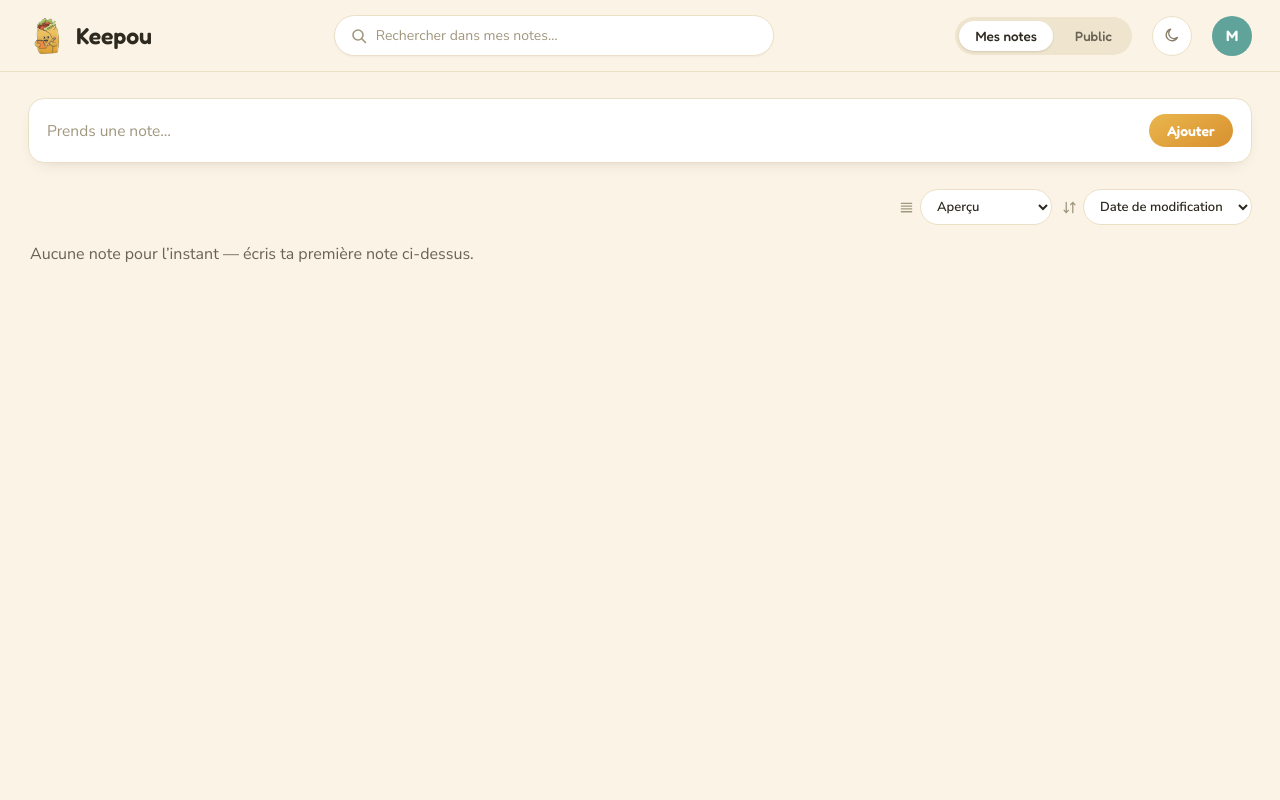
Test: AdminPage / AccessManager › navigates from the board to /admin via the avatar menu
Click the button named "Menu du compte" at (1232, 36), box [1212,16,1252,56]
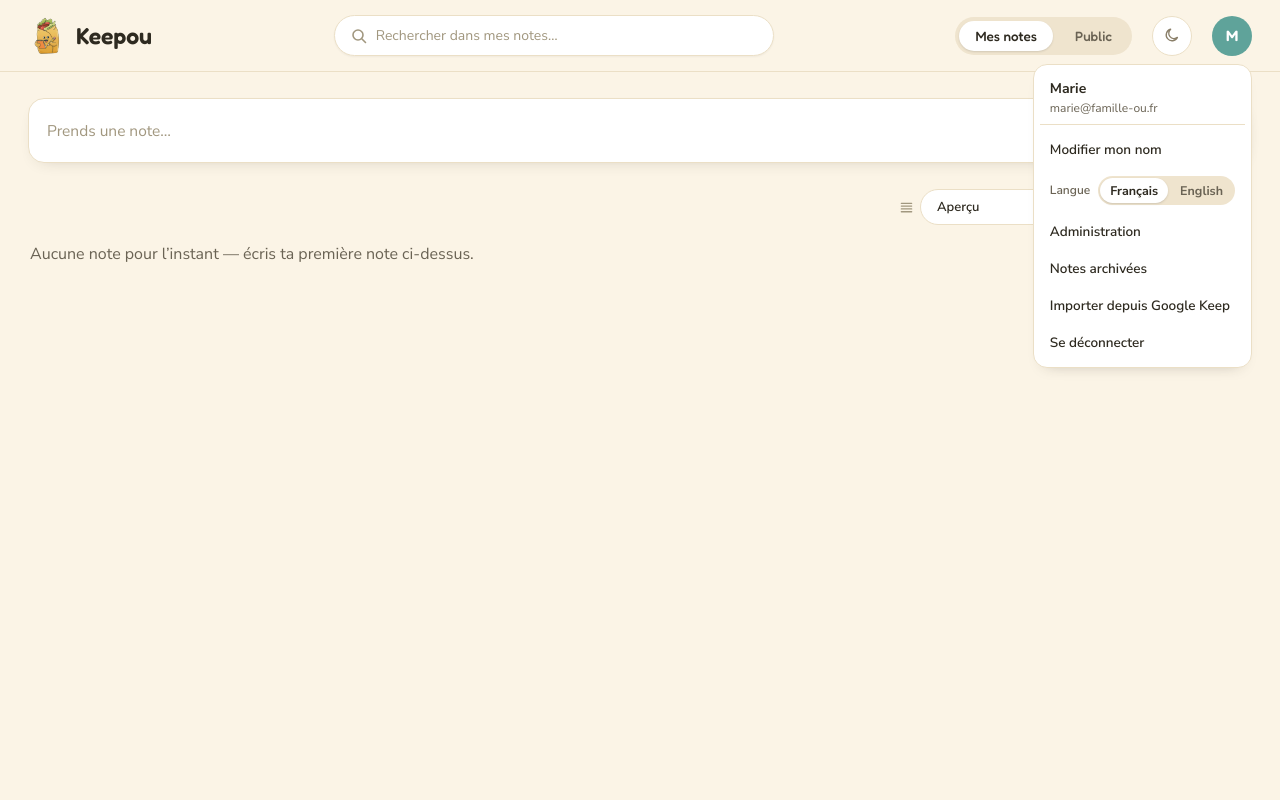
Click the menu item "Administration" at (1142, 231), box [1040,212,1245,250]
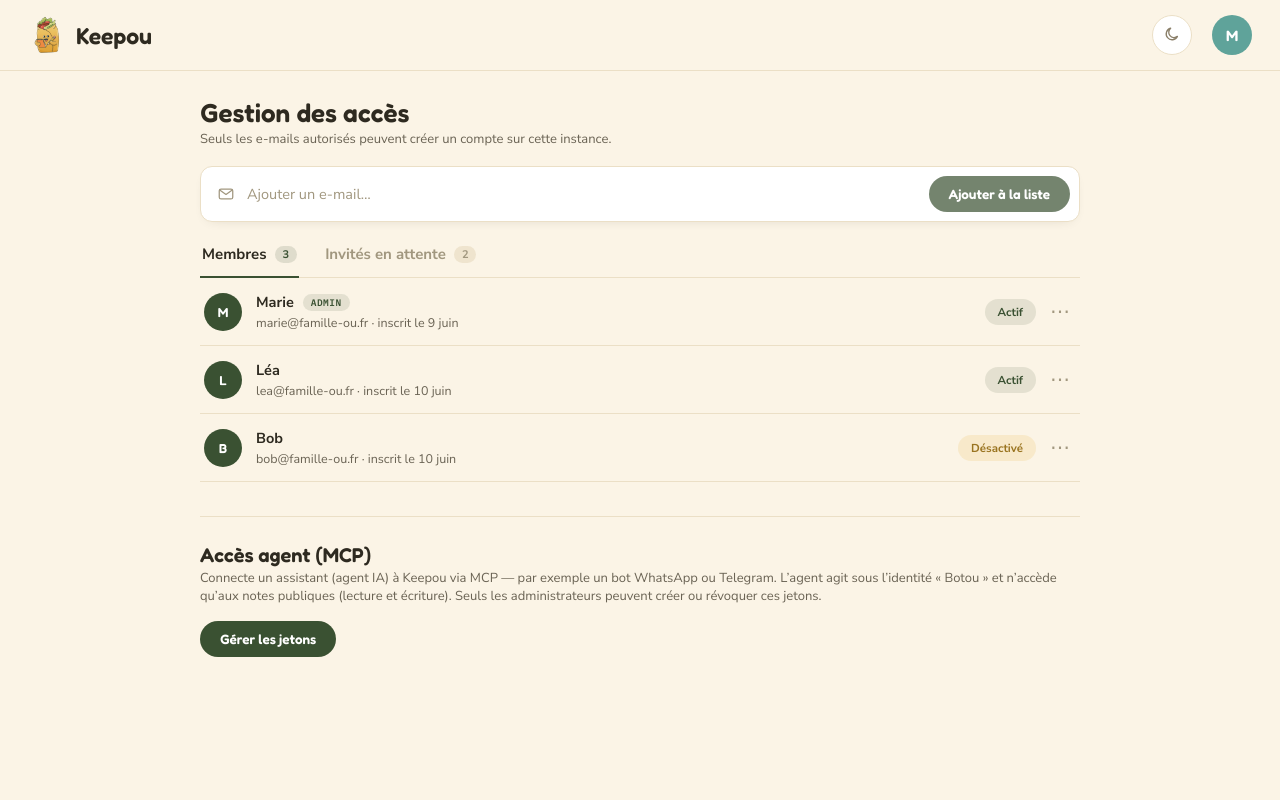
Result: the heading "Gestion des accès" is shown at [200,97,409,128]
